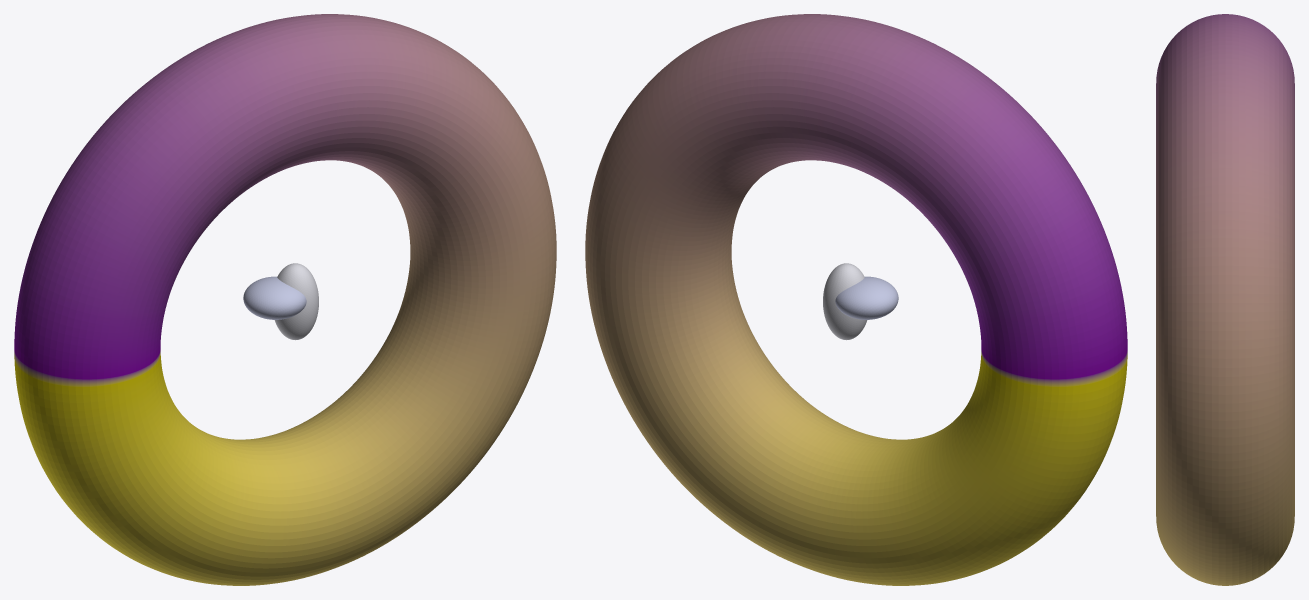
File: shadow_light_resonance_torus.glb
The picture shows the model from 3 angles, left to right: view 1: azimuth 30°, elevation 25°; view 2: azimuth 150°, elevation 25°; view 3: azimuth 270°, elevation 25°; orthographic projection. The views are drawn at different scales.
Parts seen in each view (by area): view 1: resonance_torus, hybrid_core_b, hybrid_core_a; view 2: resonance_torus, hybrid_core_b, hybrid_core_a; view 3: resonance_torus.
Part boxes in pixels (x1,y1,x2,y2): resonance_torus: (14, 14, 556, 585); hybrid_core_b: (243, 276, 306, 319); hybrid_core_a: (274, 263, 318, 340); resonance_torus: (585, 14, 1127, 585); hybrid_core_b: (835, 276, 898, 319); hybrid_core_a: (823, 263, 867, 340); resonance_torus: (1156, 14, 1294, 585).
Bounding box in the file's own units: 2.64 × 2.64 × 0.64.
